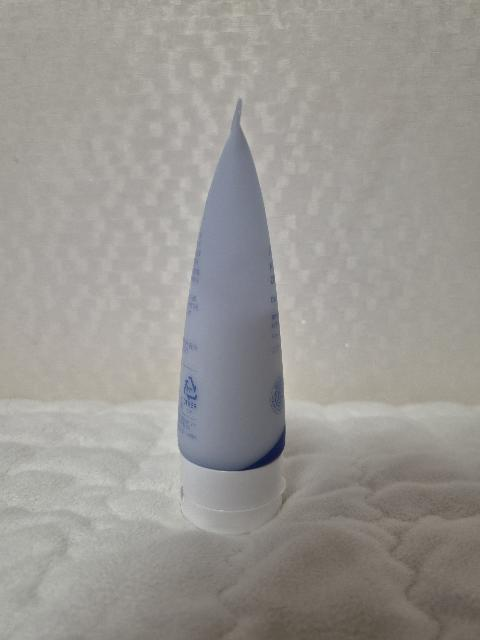handcream: (177, 98, 286, 535)
